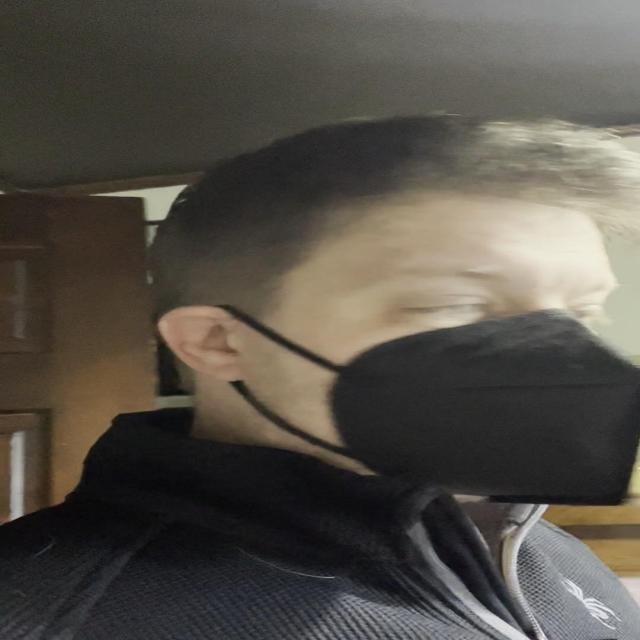no-helmet: (227, 188, 640, 503)
